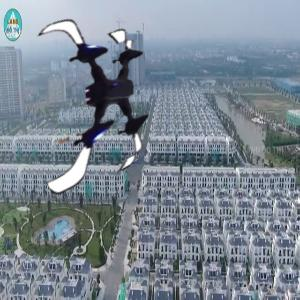drone: (9, 10, 179, 180)
